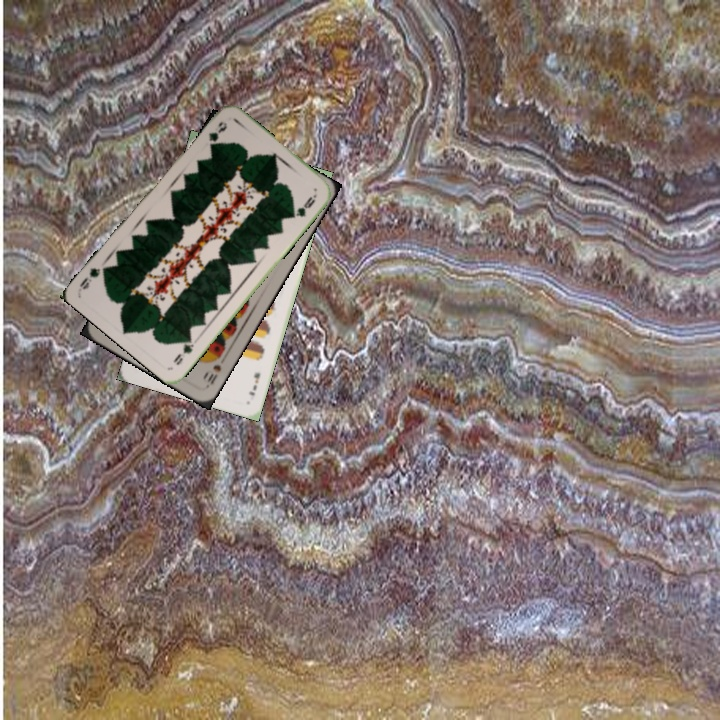E7: (244, 369, 263, 398)
G9: (169, 332, 196, 368), (204, 117, 230, 144)
S10: (202, 351, 224, 390)
